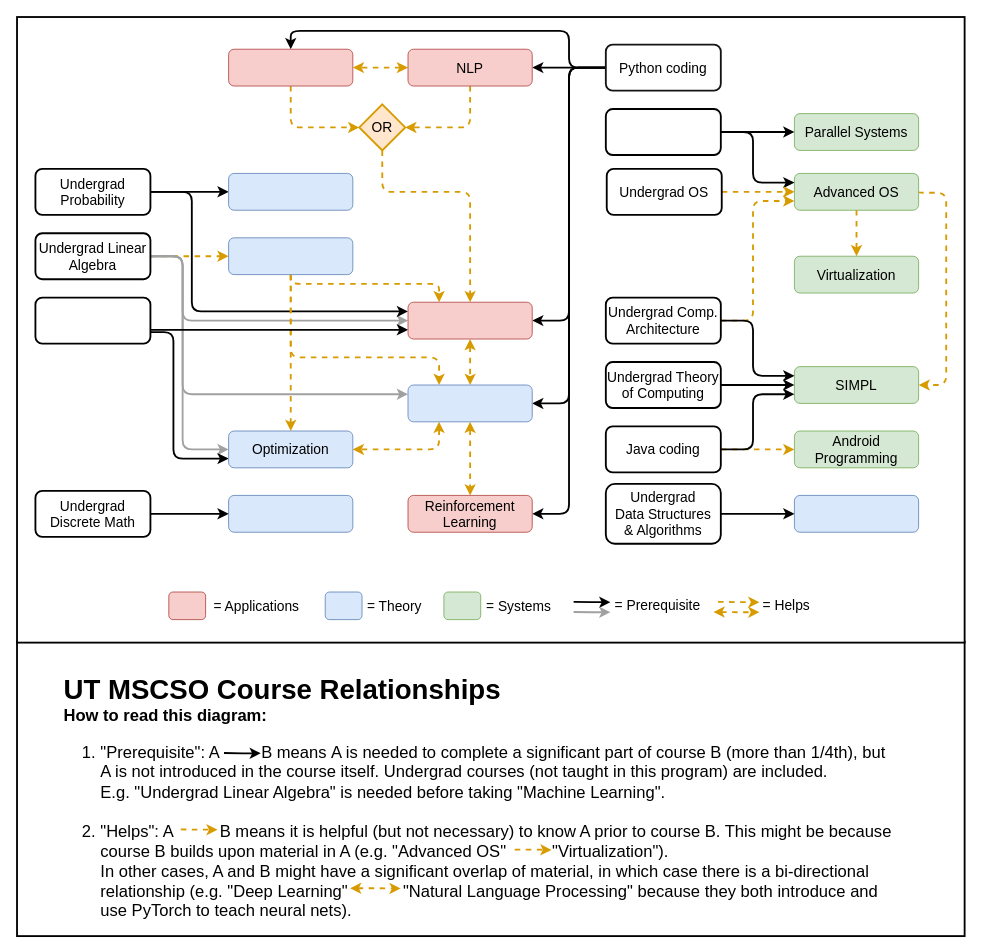
Image size: 981x952. Some labels were removed from this diagram. The shapes that lost their labels are listed below. From the top down, each one's centre as x and y in pixels, then its label:
At point (290, 67): "Deep Learning".
At point (662, 131): "C coding".
At point (290, 191): "Quantum Info. Science".
At point (290, 256): "Advanced Linear Algebra".
At point (92, 320): "Undergrad Calculus".
At point (469, 320): "Machine Learning".
At point (469, 403): "Online Learning and Optimization".
At point (290, 513): "Automated Logic Reasoning".
At point (856, 513): "Algorithms".
